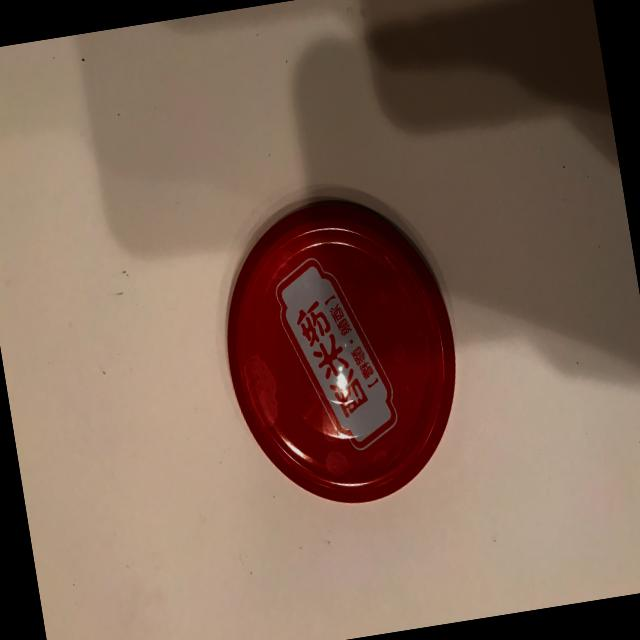Metal: (172, 158, 494, 550)
